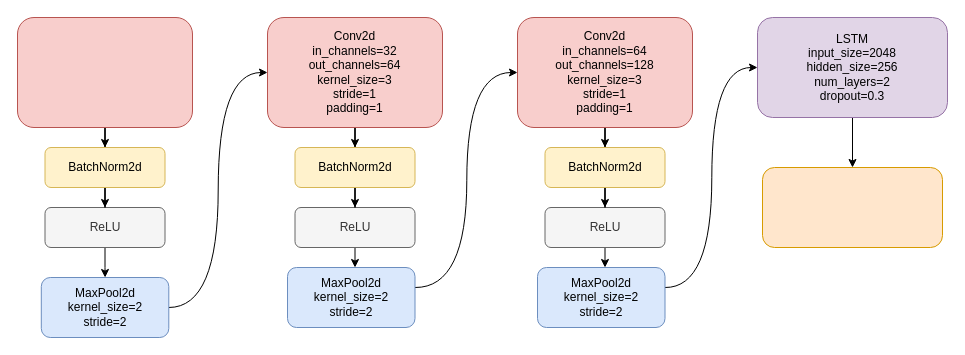
This 965x355 diagram has some shape labels left out. The centre of each missing label's shape, as x and y in pixels:
Conv2d in_channels=1 out_channels=32 kernel_size=3 stride=1 padding=1: pixel 104 72
Fully Connected in_features=256 out_features=2: pixel 852 207
